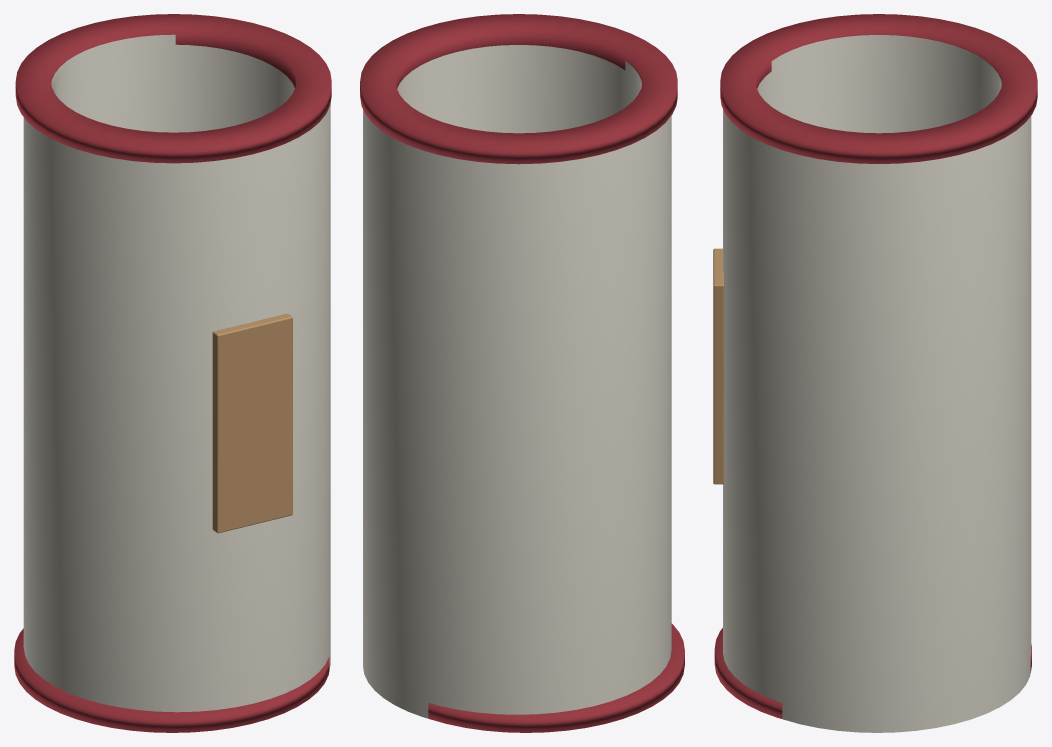
Rendered from pneumatic-tube-mail-exchange-pneumatic-tube-mail-excha-8ffd36d5__32314.glb.
3 views of the same model, side by side, from view 1: azimuth 30°, elevation 25°; view 2: azimuth 150°, elevation 25°; view 3: azimuth 270°, elevation 25° (orthographic).
Parts seen in each view (by area): view 1: pneumatic-tube-mail-exchange-document-roll-sleeve; view 2: pneumatic-tube-mail-exchange-document-roll-sleeve; view 3: pneumatic-tube-mail-exchange-document-roll-sleeve.
Part boxes in pixels (<box>): pneumatic-tube-mail-exchange-document-roll-sleeve: <box>14,14,331,732</box>; pneumatic-tube-mail-exchange-document-roll-sleeve: <box>360,14,684,732</box>; pneumatic-tube-mail-exchange-document-roll-sleeve: <box>713,14,1037,732</box>.
Size of the model in its own units: 0.1462 by 0.293 by 0.1472.
